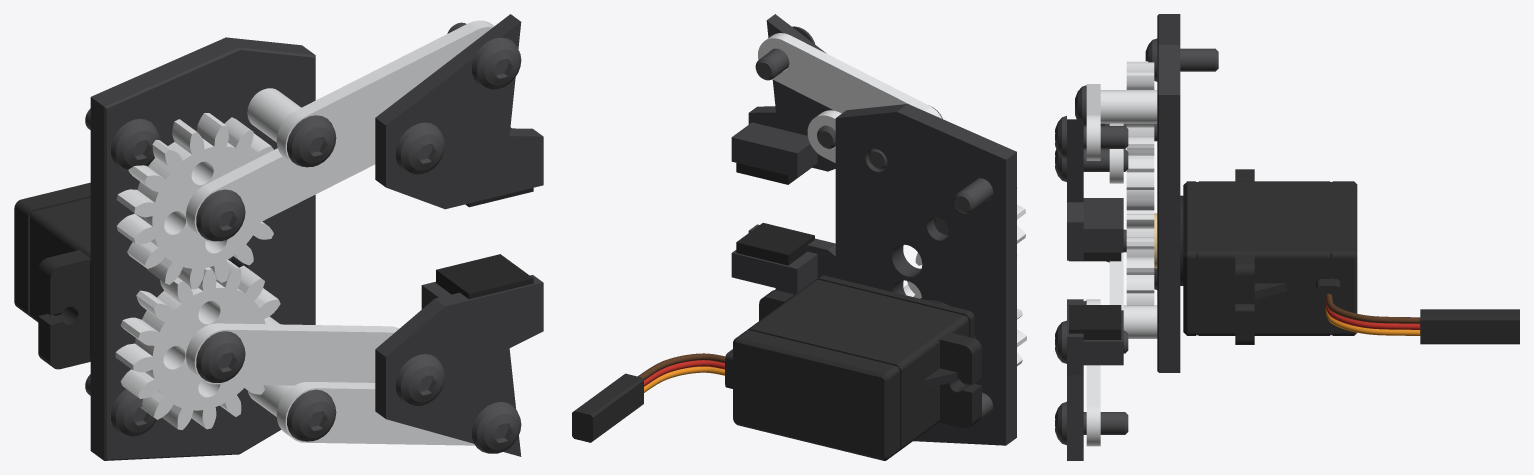
Rendered from gripper.glb.
3 views of the same model, side by side, from view 1: azimuth 30°, elevation 25°; view 2: azimuth 150°, elevation 25°; view 3: azimuth 270°, elevation 25° (orthographic). The views are drawn at different scales.
Parts seen in each view (by area): view 1: gripper-body, gripper-hardware; view 2: gripper-body, gripper-hardware; view 3: gripper-body, gripper-hardware.
Part boxes in pixels (bbox=[...]): gripper-body: bbox=[14, 14, 543, 460]; gripper-hardware: bbox=[85, 22, 533, 453]; gripper-body: bbox=[572, 14, 1026, 460]; gripper-hardware: bbox=[638, 26, 993, 427]; gripper-body: bbox=[1067, 14, 1519, 460]; gripper-hardware: bbox=[1055, 38, 1420, 445].
Size of the model in its own units: 0.0456 by 0.0492 by 0.0606.
